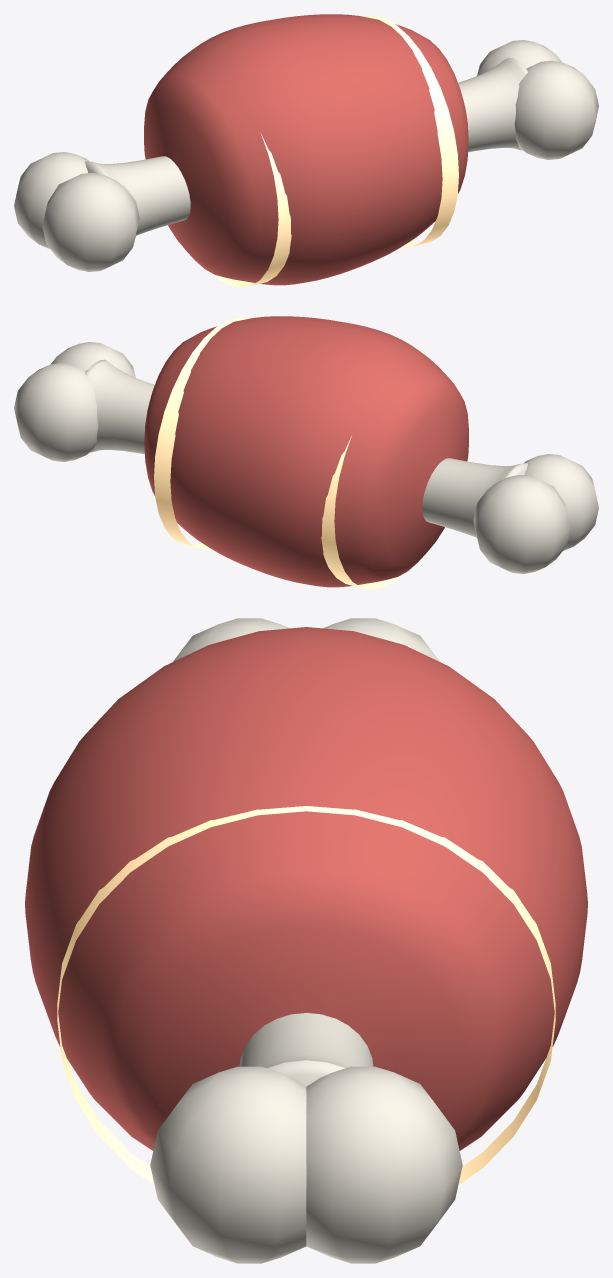
The model's file is pickup_meat.glb.
The picture shows the model from 3 angles, top to bottom: view 1: azimuth 30°, elevation 25°; view 2: azimuth 150°, elevation 25°; view 3: azimuth 270°, elevation 25°; orthographic projection. The views are drawn at different scales.
Visible parts, largest first — view 1: PrimeMeatCut, MarrowBone, Knuckle_-5_-6, Knuckle_5_-6, Knuckle_-5_6, FatTrim_20, FatTrim_-20, Knuckle_5_6; view 2: PrimeMeatCut, MarrowBone, Knuckle_-5_6, Knuckle_5_6, Knuckle_-5_-6, FatTrim_20, FatTrim_-20, Knuckle_5_-6; view 3: PrimeMeatCut, Knuckle_5_6, Knuckle_5_-6, FatTrim_20, MarrowBone, Knuckle_-5_6, Knuckle_-5_-6.
Boxes of the visible parts, left/top/right/bottom form: PrimeMeatCut: left=144, top=14, right=468, bottom=285; MarrowBone: left=85, top=57, right=527, bottom=235; Knuckle_-5_-6: left=42, top=173, right=139, bottom=271; Knuckle_5_-6: left=514, top=60, right=598, bottom=159; Knuckle_-5_6: left=14, top=152, right=89, bottom=248; FatTrim_20: left=366, top=15, right=458, bottom=247; FatTrim_-20: left=209, top=132, right=291, bottom=287; Knuckle_5_6: left=477, top=40, right=561, bottom=75; PrimeMeatCut: left=144, top=316, right=468, bottom=587; MarrowBone: left=85, top=359, right=527, bottom=537; Knuckle_-5_6: left=473, top=475, right=570, bottom=573; Knuckle_5_6: left=14, top=362, right=98, bottom=461; Knuckle_-5_-6: left=523, top=454, right=598, bottom=550; FatTrim_20: left=154, top=317, right=246, bottom=549; FatTrim_-20: left=321, top=436, right=403, bottom=589; Knuckle_5_-6: left=51, top=342, right=135, bottom=377; PrimeMeatCut: left=25, top=627, right=587, bottom=1150; Knuckle_5_6: left=306, top=1066, right=462, bottom=1263; Knuckle_5_-6: left=150, top=1066, right=306, bottom=1263; FatTrim_20: left=57, top=806, right=555, bottom=1184; MarrowBone: left=239, top=1013, right=373, bottom=1086; Knuckle_-5_6: left=323, top=618, right=439, bottom=661; Knuckle_-5_-6: left=173, top=618, right=289, bottom=661.
Size of the model in its own units: 1.32 by 0.5509 by 0.5946.
